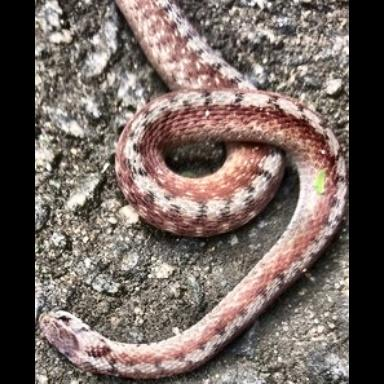snake: (38, 0, 347, 381)
